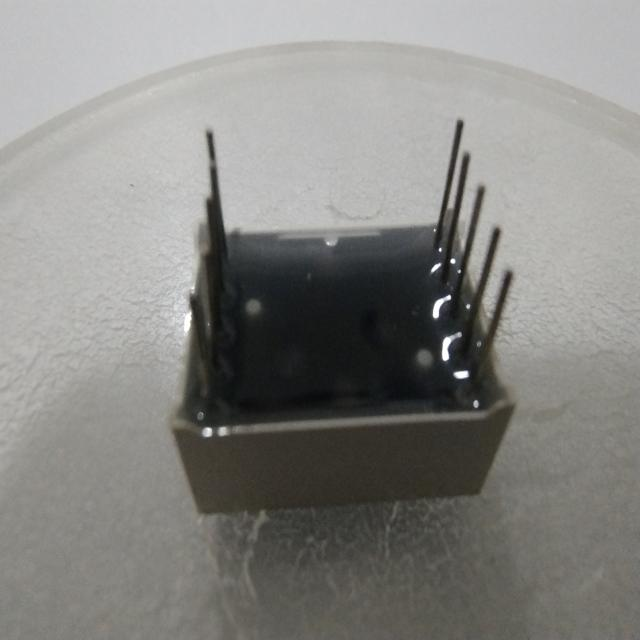7_segments: (170, 110, 534, 528)
